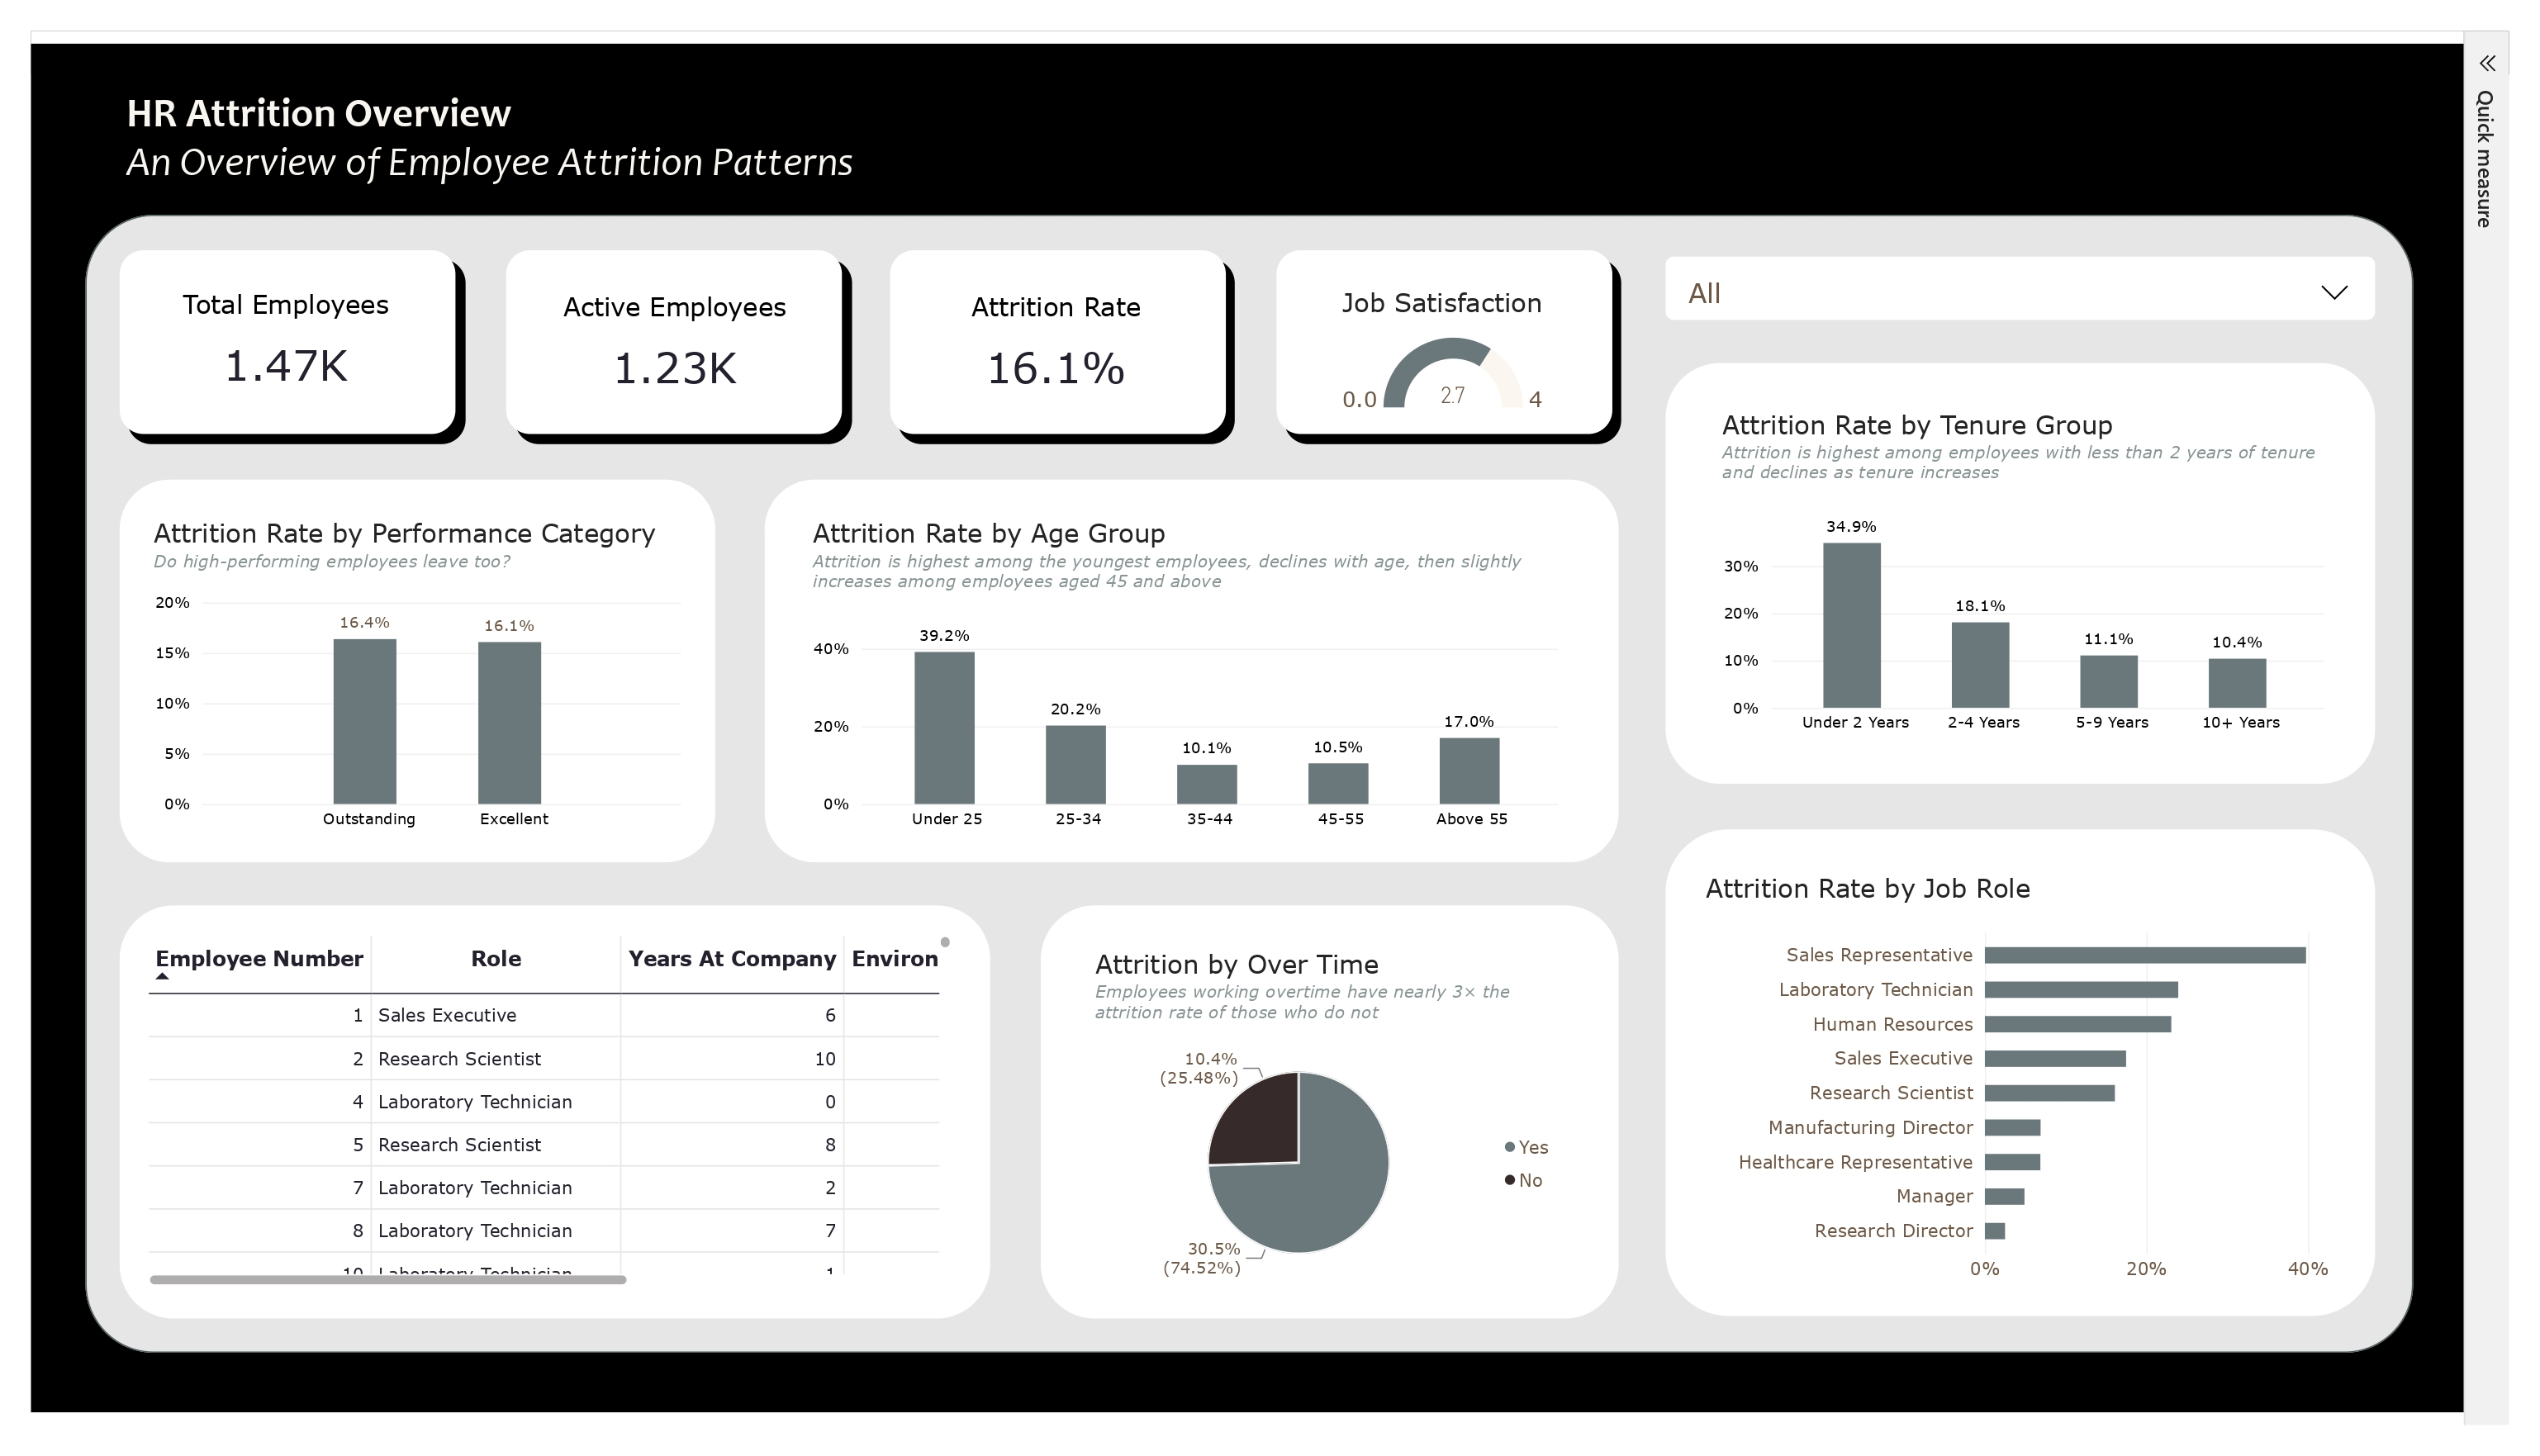

This screenshot's page, from the dashboard's own definition file:
{"tool":"powerbi","page":{"name":"HR Overview","canvas":[1920,1080],"ordinal":0},"visuals":[{"type":"shape","box":[42.5,135,1837.5,897.5],"z":0},{"type":"shape","box":[989.1,170,266.4,146.4],"z":1000},{"type":"shape","box":[683.6,170,266.4,146.4],"z":2000},{"type":"shape","box":[381.8,170,266.4,146.4],"z":3000},{"type":"shape","box":[76.2,170,266.2,146.2],"z":4000},{"type":"shape","box":[797.1,680,455.7,325.7],"z":5000},{"type":"shape","box":[70,680,687.1,325.7],"z":6000},{"type":"shape","box":[578.6,344.3,674.3,301.4],"z":7000},{"type":"shape","box":[70,344.3,470,301.4],"z":8000},{"type":"shape","box":[1290,620,560,384],"z":9000},{"type":"shape","box":[982.5,162.5,265,145],"z":10000},{"type":"shape","box":[1290,168,560,50],"z":11000},{"type":"shape","box":[1290,252,560,332],"z":12000},{"type":"textbox","box":[75,35,692.5,100],"z":13000},{"type":"tableEx","fields":{"Values":["HR.EmployeeNumber","HR.JobRole","HR.YearsAtCompany","HR.EnvironmentSatisfaction","HR.Job Satisfaction Category","HR.Attrition"]},"box":[76,690,666,306],"z":14000},{"type":"slicer","fields":{"Values":["HR.Department"]},"box":[1297.1,172.9,542.9,38.6],"z":15000},{"type":"pieChart","title":"Attrition by Over Time","fields":{"Category":["HR.OverTime"],"Y":["HR.Attrition Rate"]},"box":[824.3,700,398.6,294.3],"z":16000},{"type":"clusteredColumnChart","title":"Attrition Rate by Age Group","fields":{"Category":["HR.Age Group"],"Y":["HR.Attrition Rate"]},"box":[601.4,360,620,280],"z":17000},{"type":"barChart","title":"Attrition Rate by Job Role","fields":{"Category":["HR.JobRole"],"Y":["HR.Attrition Rate"]},"box":[1306,640,524,356],"z":18000},{"type":"clusteredColumnChart","title":"Attrition Rate by Tenure Group","fields":{"Category":["HR.Tenure Group"],"Y":["HR.Attrition Rate"]},"box":[1318.6,274.3,507.1,290],"z":19000},{"type":"gauge","title":"Job Satisfaction","fields":{"MaxValue":["Max(HR.JobSatisfaction)1"],"Y":["Avg(HR.JobSatisfaction)"]},"box":[995,178.3,238.3,130],"z":20000},{"type":"shape","box":[70,162.5,265,145],"z":21000},{"type":"cardVisual","fields":{"Data":["HR.Total Employees"]},"box":[95,182.5,212.5,102.5],"z":22000},{"type":"shape","box":[375,162.5,265,145],"z":23000},{"type":"shape","box":[677.5,162.5,265,145],"z":24000},{"type":"cardVisual","fields":{"Data":["HR.Active Employees"]},"box":[401.7,185,212.5,102.5],"z":25000},{"type":"cardVisual","fields":{"Data":["HR.Attrition Rate"]},"box":[703.3,185,212.5,102.5],"z":26000},{"type":"clusteredColumnChart","title":"Attrition Rate by Performance Category","fields":{"Category":["HR.Performance Rating Category"],"Y":["HR.Attrition Rate"]},"box":[81.4,360,447.1,280],"z":28000}]}

Visuals, with their boxes on the page's 1920x1080 design canvas (x1, y1, x2, y2). These are canvas units, not pixel positions in the 2540x1456 screenshot, which may show the page scaled, cropped or inside an application window:
shape: {"x1": 42, "y1": 135, "x2": 1880, "y2": 1032}
shape: {"x1": 989, "y1": 170, "x2": 1256, "y2": 316}
shape: {"x1": 684, "y1": 170, "x2": 950, "y2": 316}
shape: {"x1": 382, "y1": 170, "x2": 648, "y2": 316}
shape: {"x1": 76, "y1": 170, "x2": 342, "y2": 316}
shape: {"x1": 797, "y1": 680, "x2": 1253, "y2": 1006}
shape: {"x1": 70, "y1": 680, "x2": 757, "y2": 1006}
shape: {"x1": 579, "y1": 344, "x2": 1253, "y2": 646}
shape: {"x1": 70, "y1": 344, "x2": 540, "y2": 646}
shape: {"x1": 1290, "y1": 620, "x2": 1850, "y2": 1004}
shape: {"x1": 982, "y1": 162, "x2": 1248, "y2": 308}
shape: {"x1": 1290, "y1": 168, "x2": 1850, "y2": 218}
shape: {"x1": 1290, "y1": 252, "x2": 1850, "y2": 584}
textbox: {"x1": 75, "y1": 35, "x2": 768, "y2": 135}
tableEx - HR.EmployeeNumber x HR.JobRole: {"x1": 76, "y1": 690, "x2": 742, "y2": 996}
slicer - HR.Department: {"x1": 1297, "y1": 173, "x2": 1840, "y2": 212}
"Attrition by Over Time" pieChart: {"x1": 824, "y1": 700, "x2": 1223, "y2": 994}
"Attrition Rate by Age Group" clusteredColumnChart: {"x1": 601, "y1": 360, "x2": 1221, "y2": 640}
"Attrition Rate by Job Role" barChart: {"x1": 1306, "y1": 640, "x2": 1830, "y2": 996}
"Attrition Rate by Tenure Group" clusteredColumnChart: {"x1": 1319, "y1": 274, "x2": 1826, "y2": 564}
"Job Satisfaction" gauge: {"x1": 995, "y1": 178, "x2": 1233, "y2": 308}
shape: {"x1": 70, "y1": 162, "x2": 335, "y2": 308}
cardVisual - HR.Total Employees: {"x1": 95, "y1": 182, "x2": 308, "y2": 285}
shape: {"x1": 375, "y1": 162, "x2": 640, "y2": 308}
shape: {"x1": 678, "y1": 162, "x2": 942, "y2": 308}
cardVisual - HR.Active Employees: {"x1": 402, "y1": 185, "x2": 614, "y2": 288}
cardVisual - HR.Attrition Rate: {"x1": 703, "y1": 185, "x2": 916, "y2": 288}
"Attrition Rate by Performance Category" clusteredColumnChart: {"x1": 81, "y1": 360, "x2": 528, "y2": 640}
